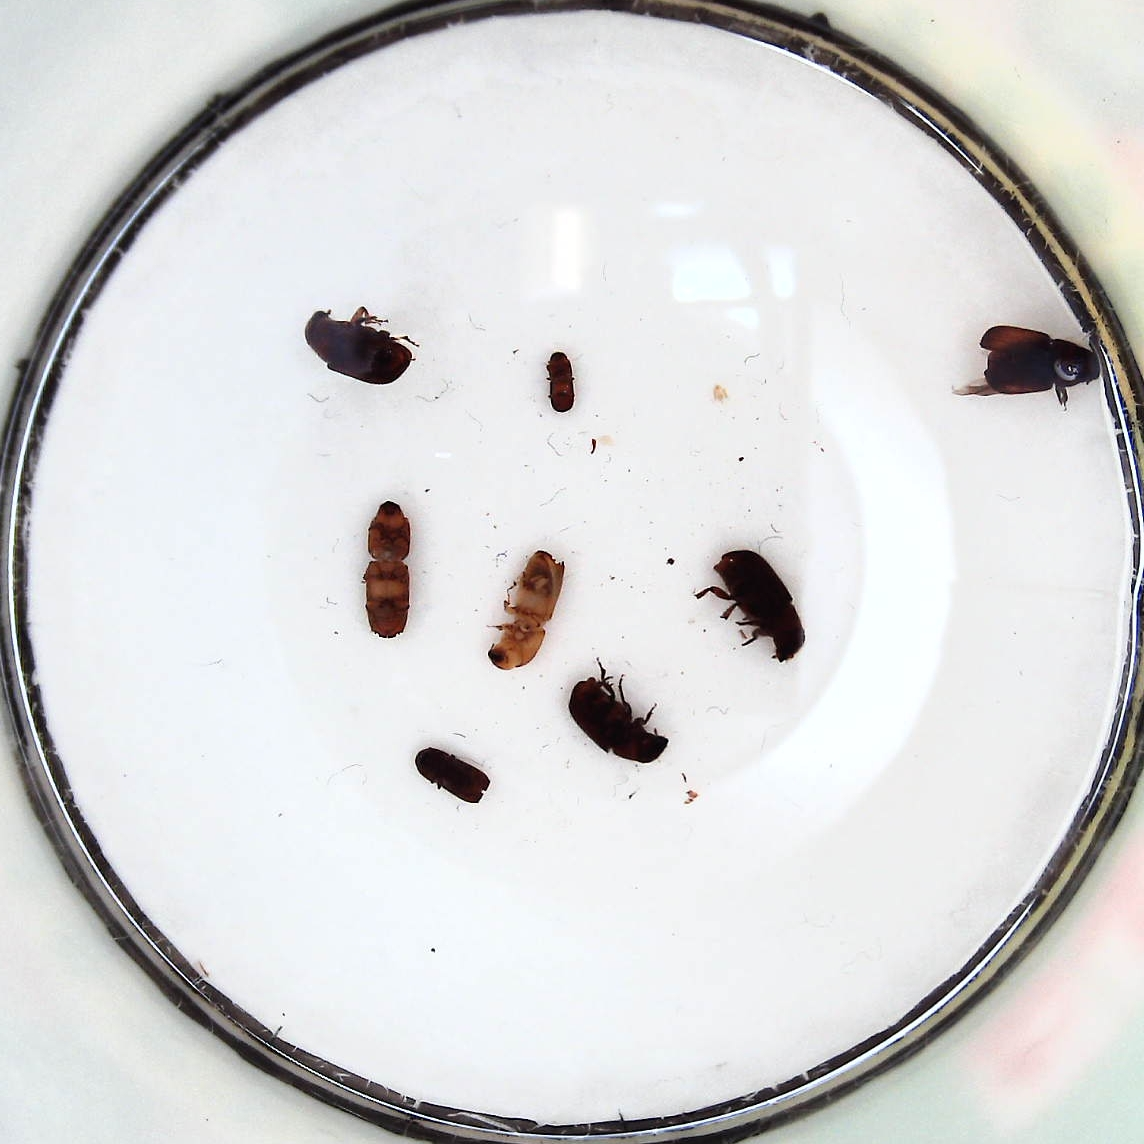Boerner: (484, 545, 568, 668), (360, 496, 417, 644)
Leconte: (699, 548, 806, 663), (568, 670, 670, 765), (301, 303, 417, 386), (978, 322, 1102, 398)
Linnaeus: (412, 745, 492, 804)
acuminatus: (545, 348, 579, 416)
